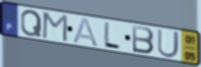A: (72, 16, 100, 48)
B: (131, 24, 156, 56)
L: (103, 21, 122, 51)
M: (41, 11, 69, 44)
Q: (20, 9, 44, 38)
U: (156, 28, 181, 60)
